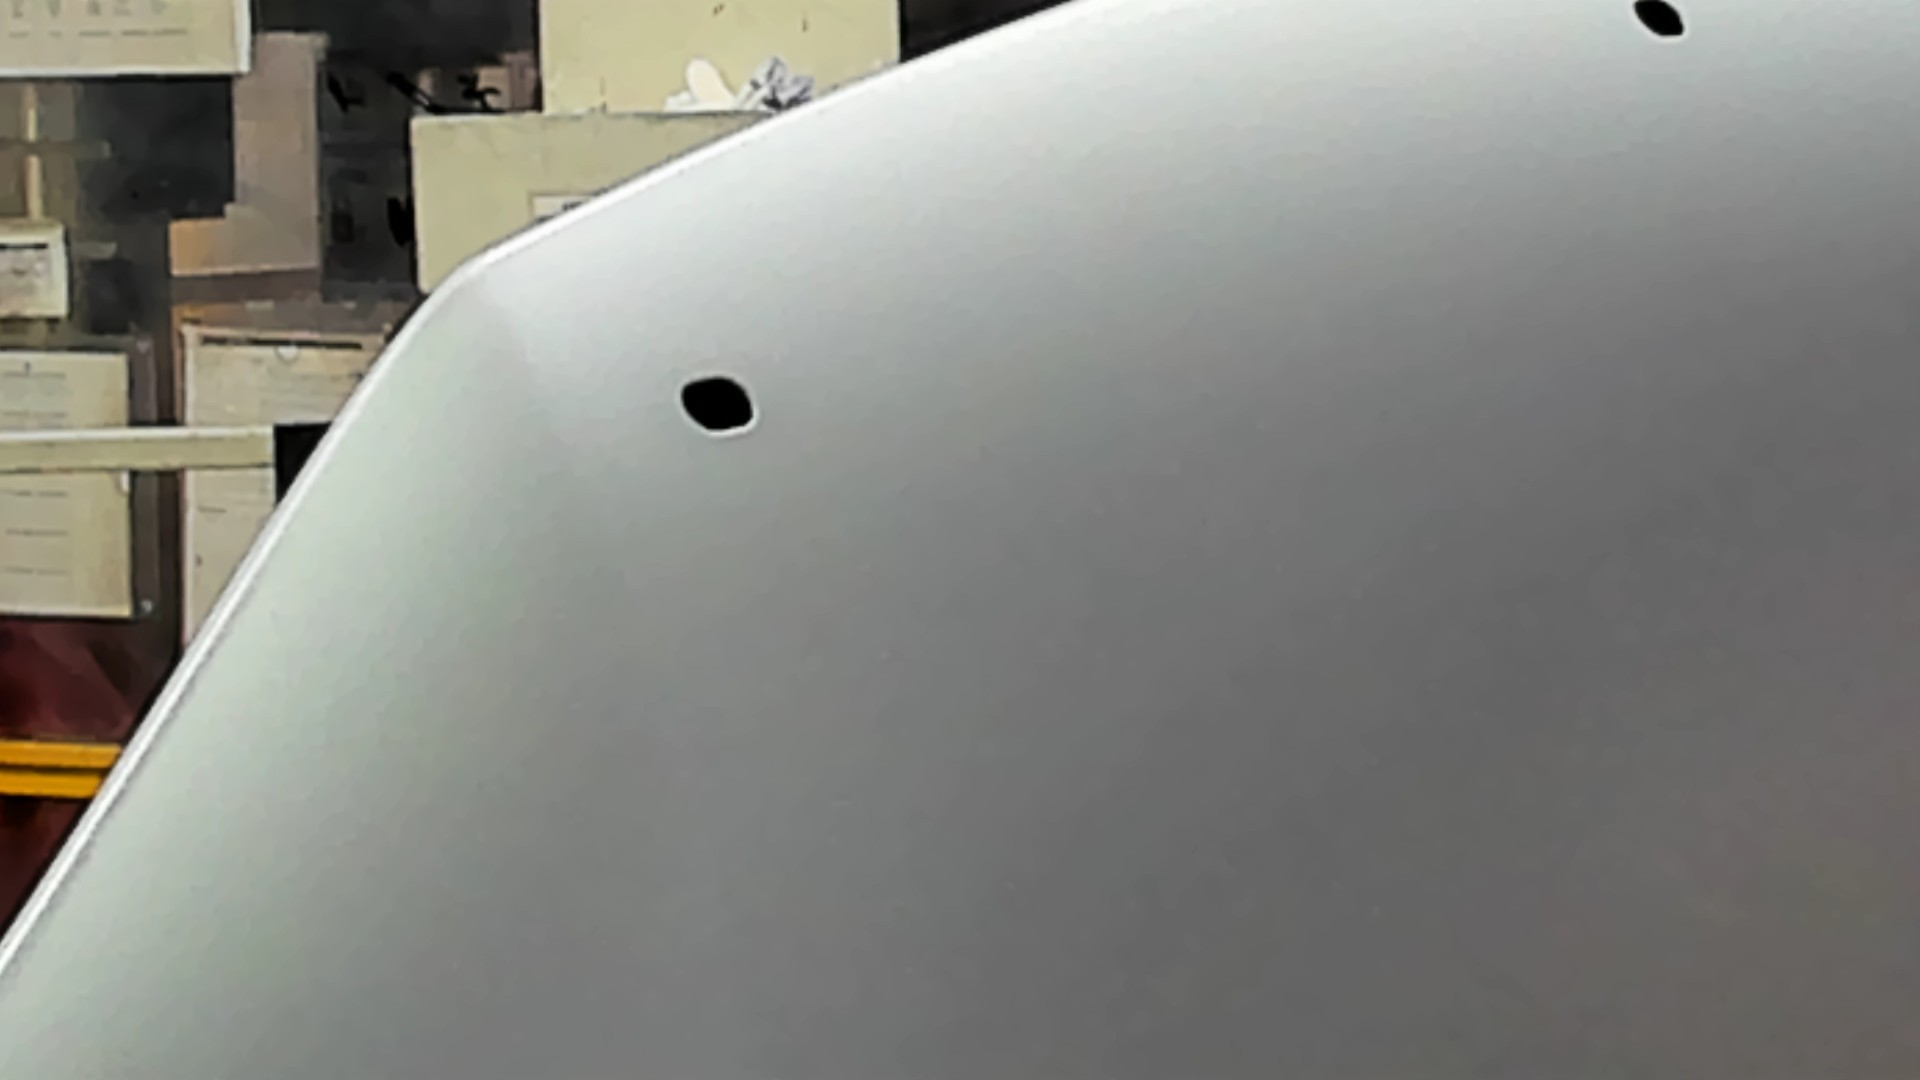amorfo: (673, 369, 757, 438), (1629, 1, 1695, 44)
